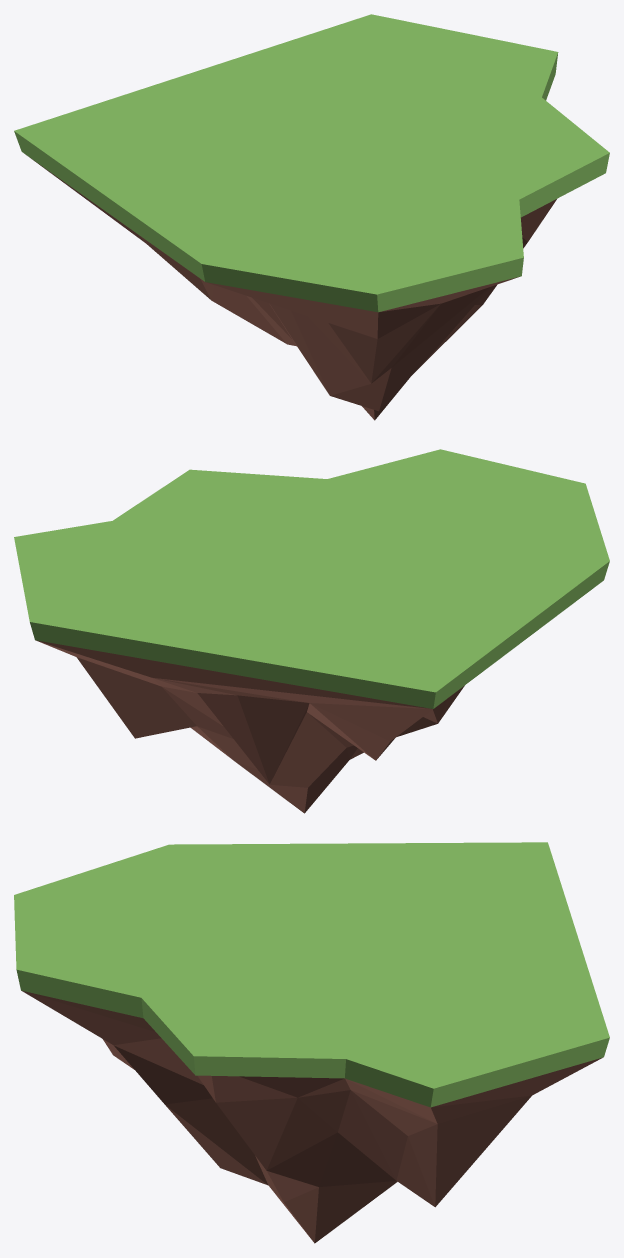
File: Island4.fbx
3 renders of one model, top to bottom at view 1: azimuth 30°, elevation 25°; view 2: azimuth 150°, elevation 25°; view 3: azimuth 270°, elevation 25°, orthographic. The views are drawn at different scales.
Visible parts, largest first — view 1: Island4; view 2: Island4; view 3: Island4.
Boxes of the visible parts, box(x1,y1,x2,y2) form: Island4: box(14, 14, 609, 420); Island4: box(14, 449, 609, 813); Island4: box(14, 842, 609, 1243).
Bounding box in the file's own units: 4.17 × 2.18 × 4.26.
